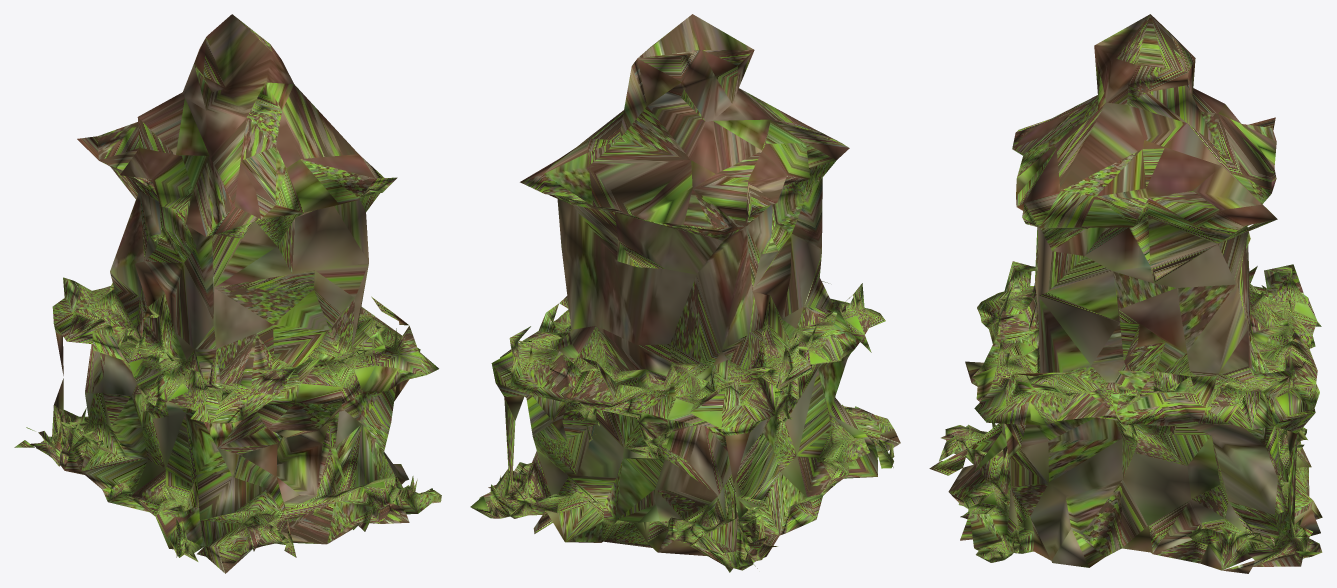
File: bq_tower_house.lod2.glb
The picture shows the model from 3 angles, left to right: view 1: azimuth 30°, elevation 25°; view 2: azimuth 150°, elevation 25°; view 3: azimuth 270°, elevation 25°; orthographic projection. The views are drawn at different scales.
Bounding box in the file's own units: 1.15 × 1.72 × 1.27.
Materials: 1 (1 with a texture image).
